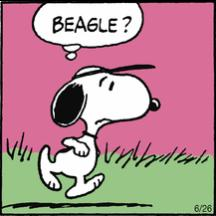snoopy: (38, 64, 160, 198)
